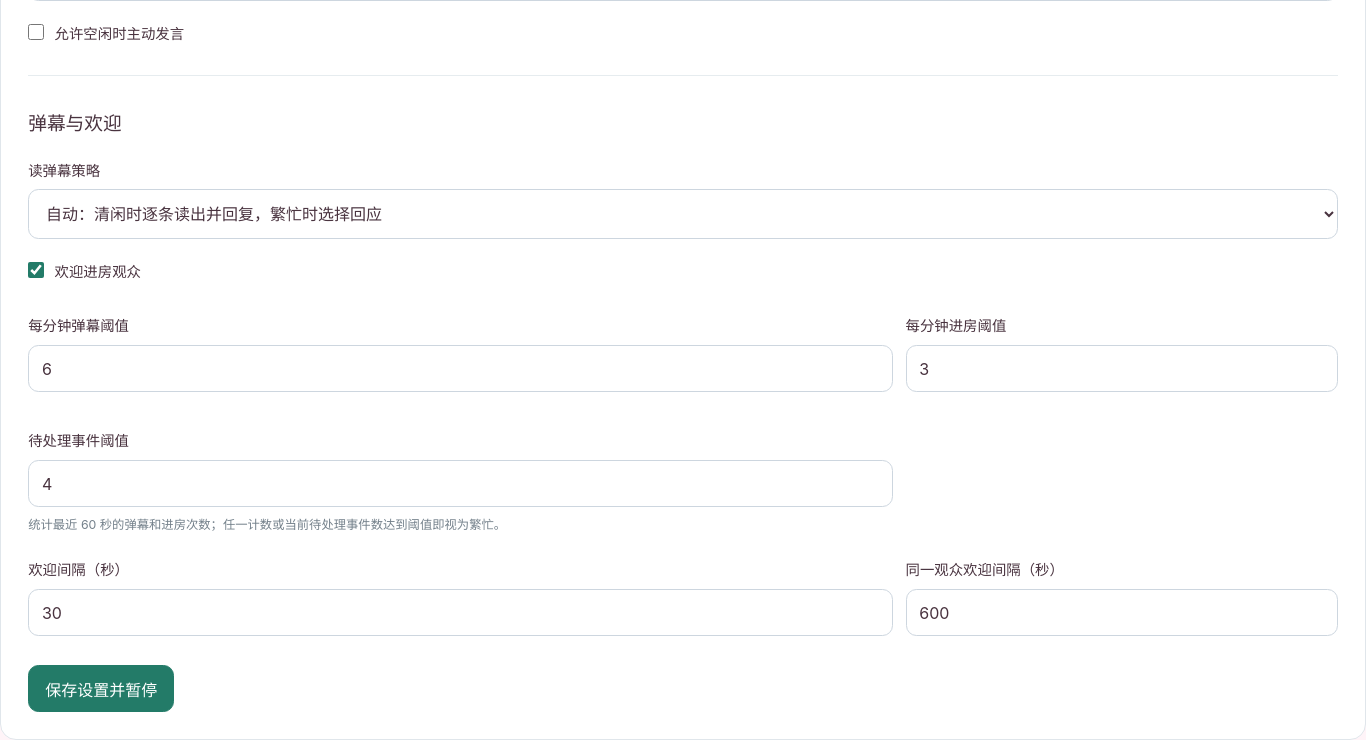
Test: 每分钟弹幕阈值 为 0 时保留草稿并拒绝保存
(page scrolled)
Replace the text in the number field labelled "每分钟弹幕阈值" with "0": coordinates (460, 369) [28,345,893,392]
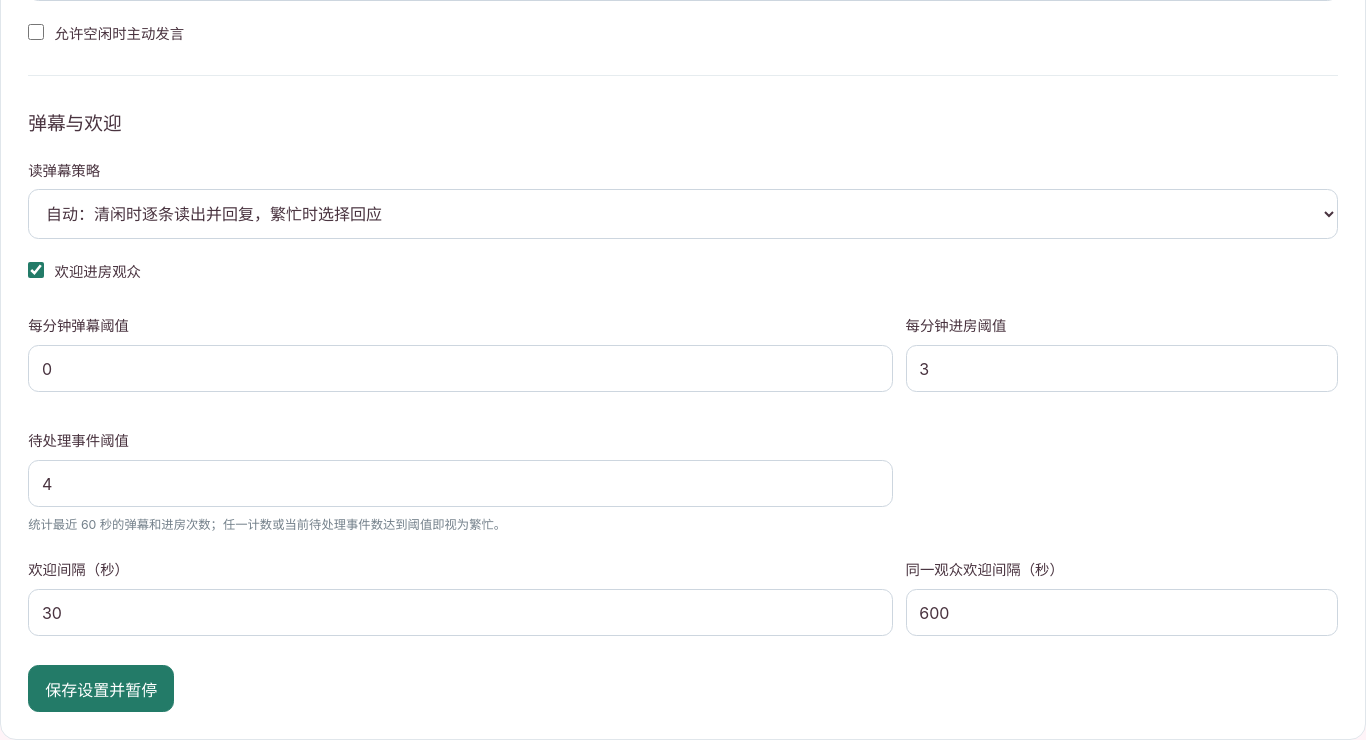
Click the button "保存设置并暂停": coordinates (101, 689) [28,665,174,712]
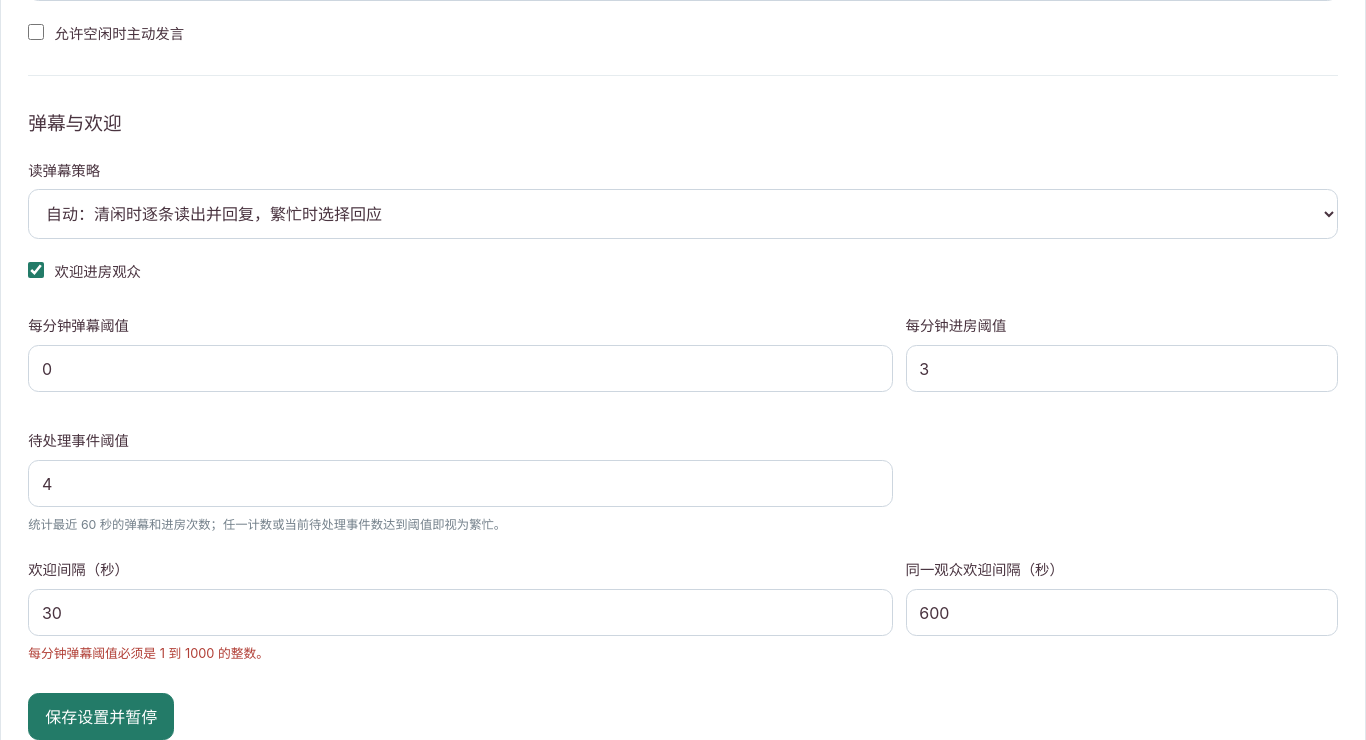
Expected: the message is shown, [28,646,269,661]
